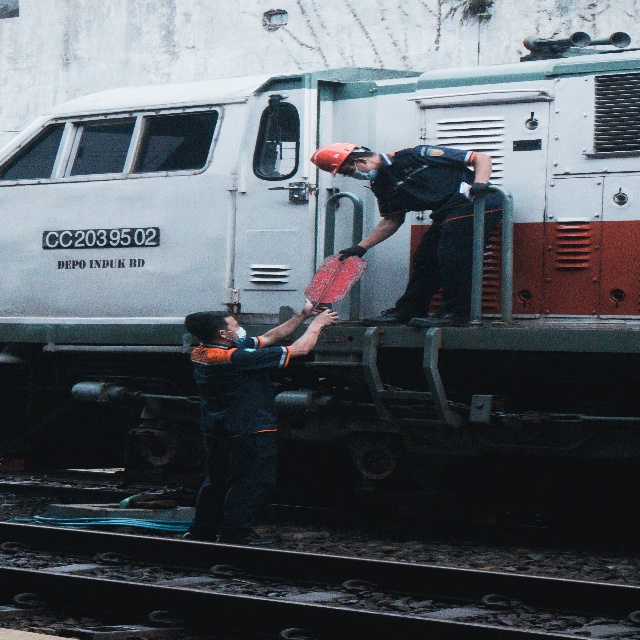Gafas: (341, 157, 357, 178)
Guantes: (336, 242, 365, 262), (469, 179, 487, 203)
Sin_guantes: (314, 306, 339, 328)
